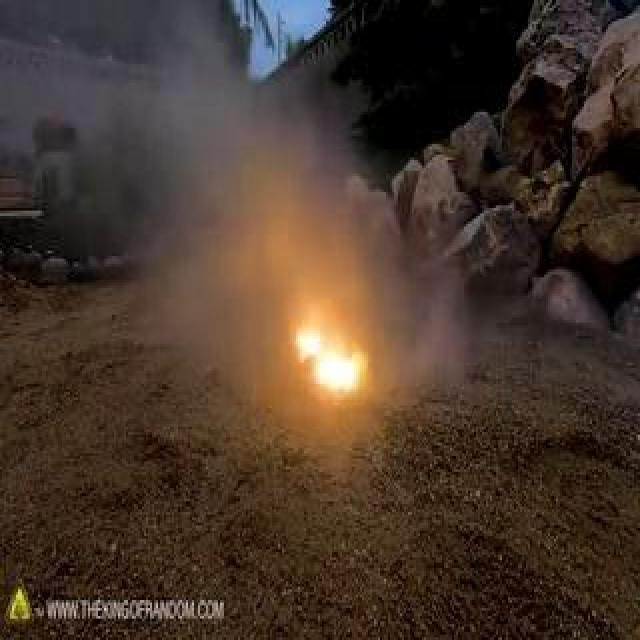Fire: (88, 94, 331, 356)
